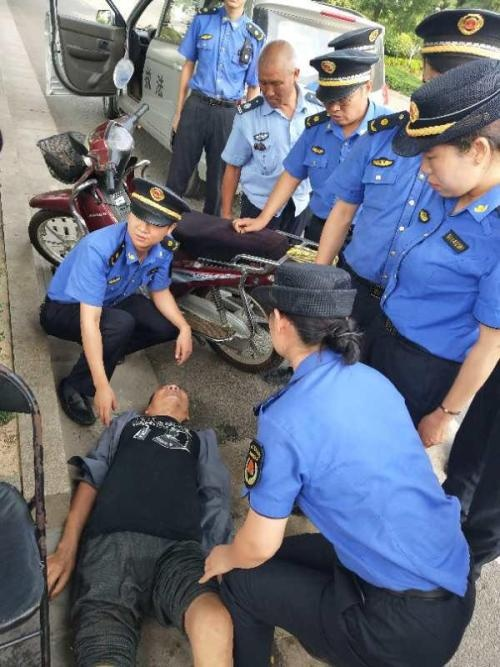falling: (37, 364, 248, 661)
